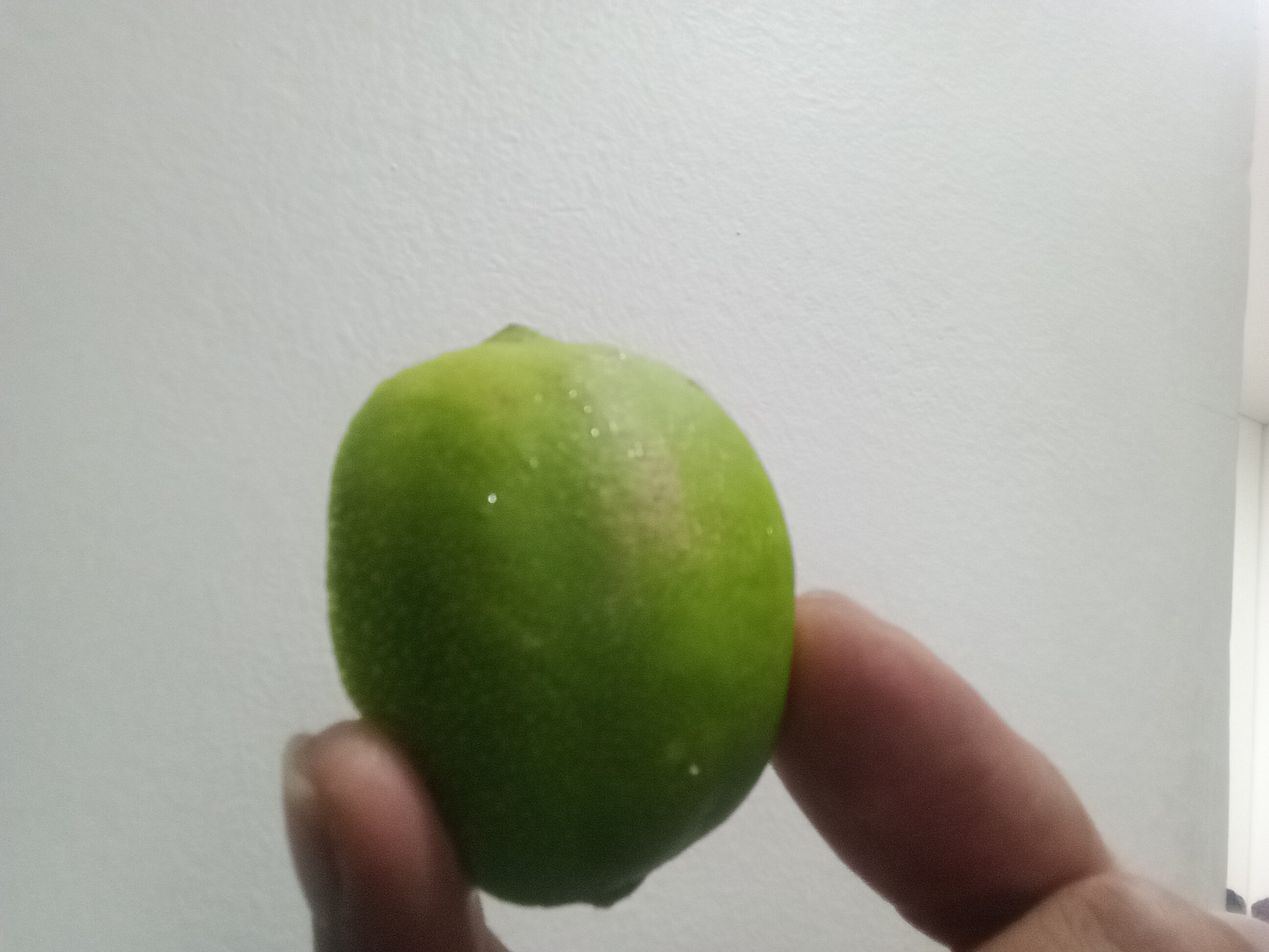Organico: (327, 323, 795, 912)
